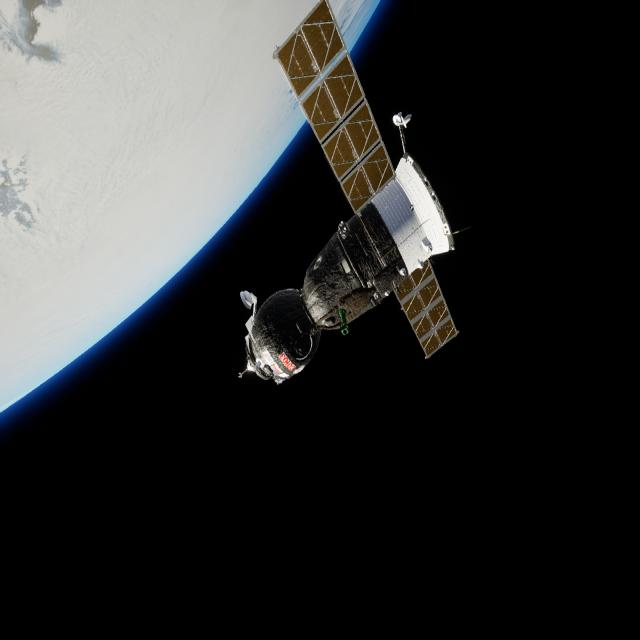Satellites revolving around earth: (237, 1, 461, 387)
